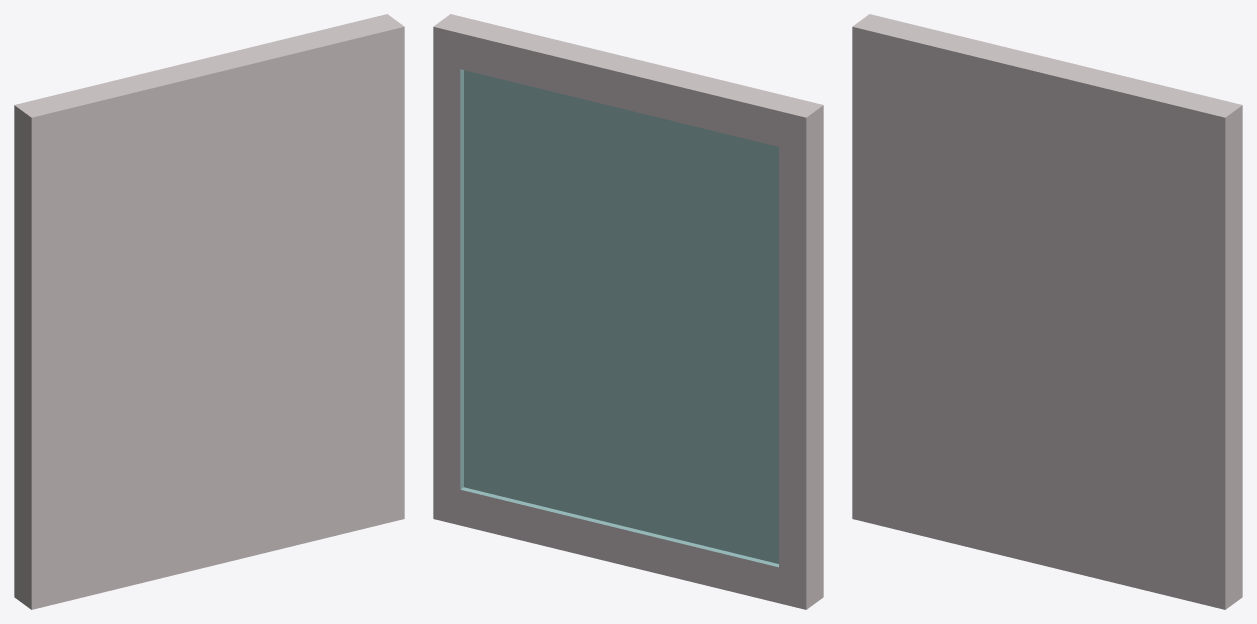
The model's file is Mirror.fbx.
3 renders of one model, left to right at view 1: azimuth 30°, elevation 25°; view 2: azimuth 150°, elevation 25°; view 3: azimuth 330°, elevation 25°, orthographic.
Parts seen in each view (by area): view 1: Mirror; view 2: Mirror; view 3: Mirror.
Boxes of the visible parts, box(x1,y1,x2,y2) form: Mirror: box(14, 14, 404, 609); Mirror: box(433, 14, 823, 609); Mirror: box(852, 14, 1242, 609).
Bounding box in the file's own units: 0.3781 × 0.0305 × 0.4767.
